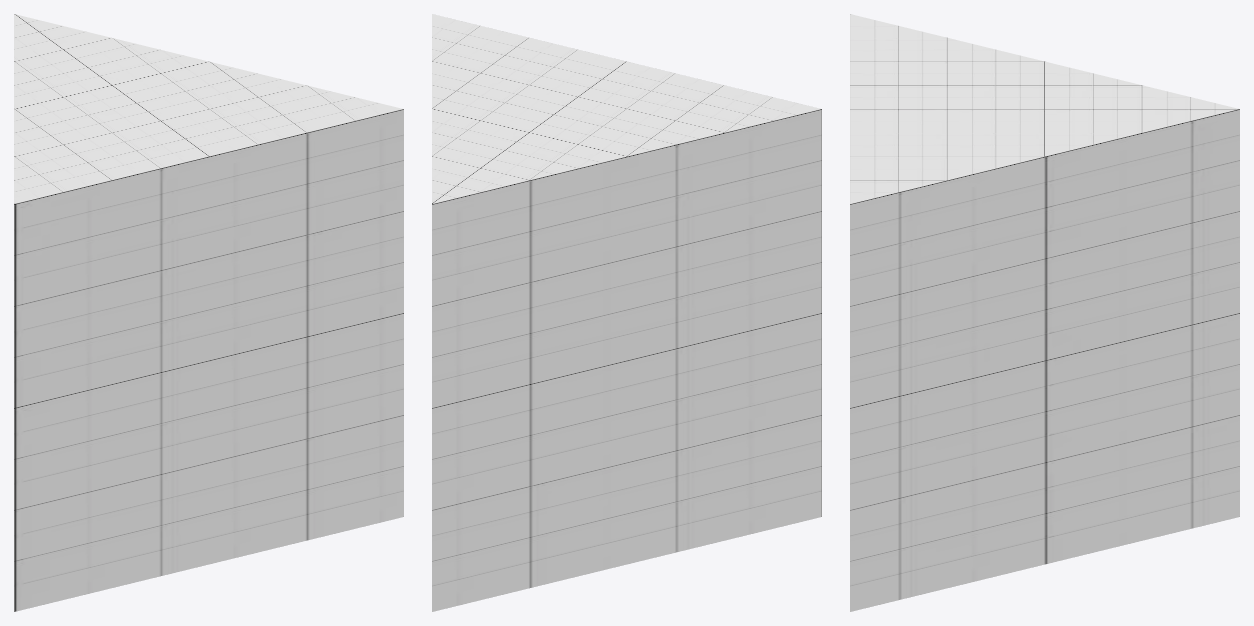
File: hull.triangle.glb
The picture shows the model from 3 angles, left to right: view 1: azimuth 30°, elevation 25°; view 2: azimuth 150°, elevation 25°; view 3: azimuth 270°, elevation 25°; orthographic projection.
Visible parts, largest first — view 1: hull.triangle; view 2: hull.triangle; view 3: hull.triangle.
Boxes of the visible parts, left/top/right/bottom form: hull.triangle: left=14, top=14, right=403, bottom=611; hull.triangle: left=432, top=14, right=821, bottom=611; hull.triangle: left=850, top=14, right=1239, bottom=611.
Bounding box in the file's own units: 3 × 3 × 2.6.
Materials: 1 (1 with a texture image).
